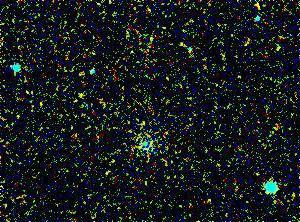star: (240, 0, 270, 22)
